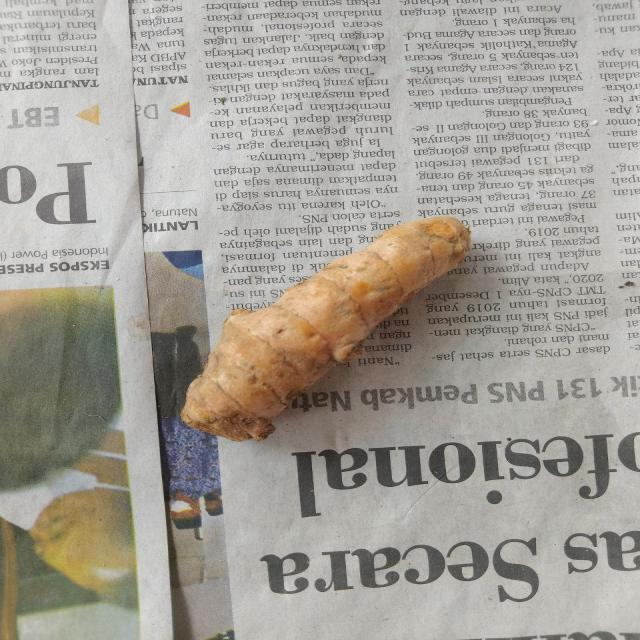ginger: (188, 216, 468, 434)
